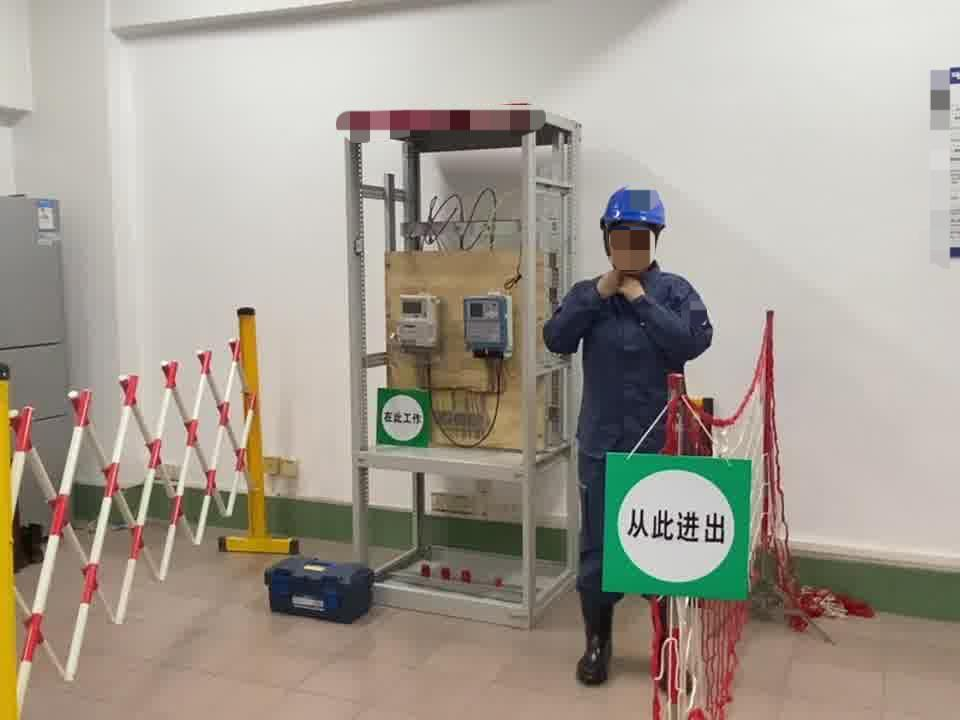halt: (600, 184, 671, 280)
